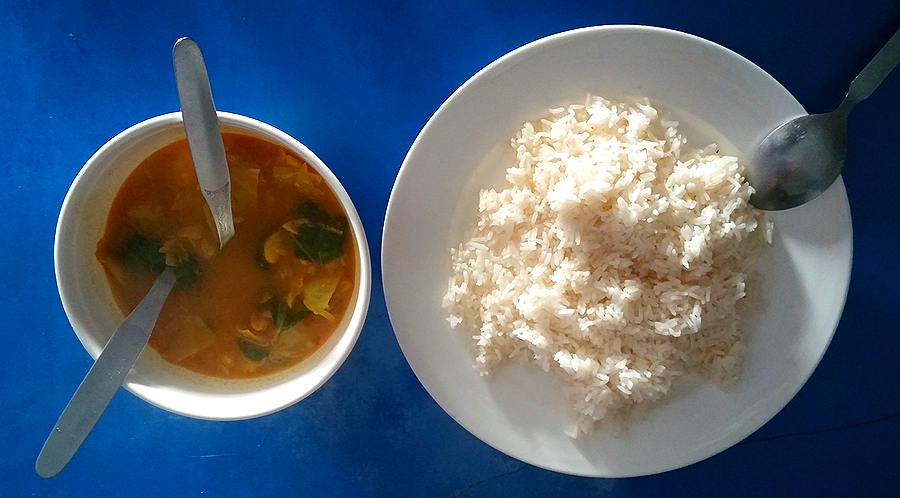plain rice: (461, 106, 748, 381)
